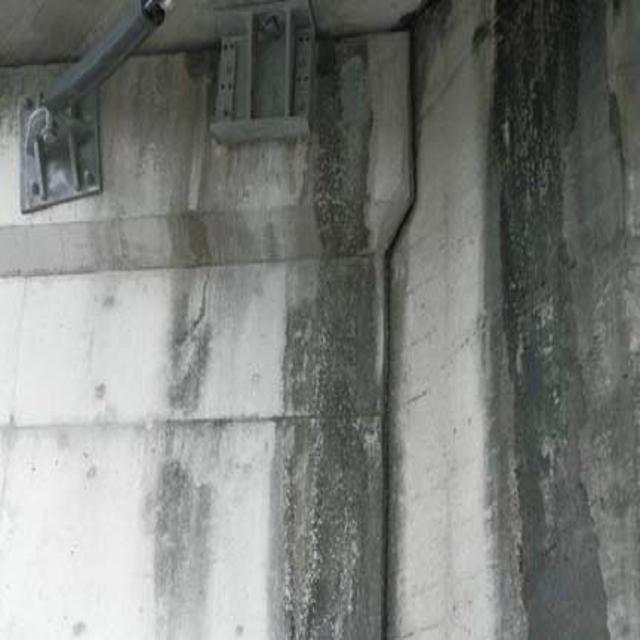leakage: (490, 8, 640, 640), (298, 37, 412, 640)
